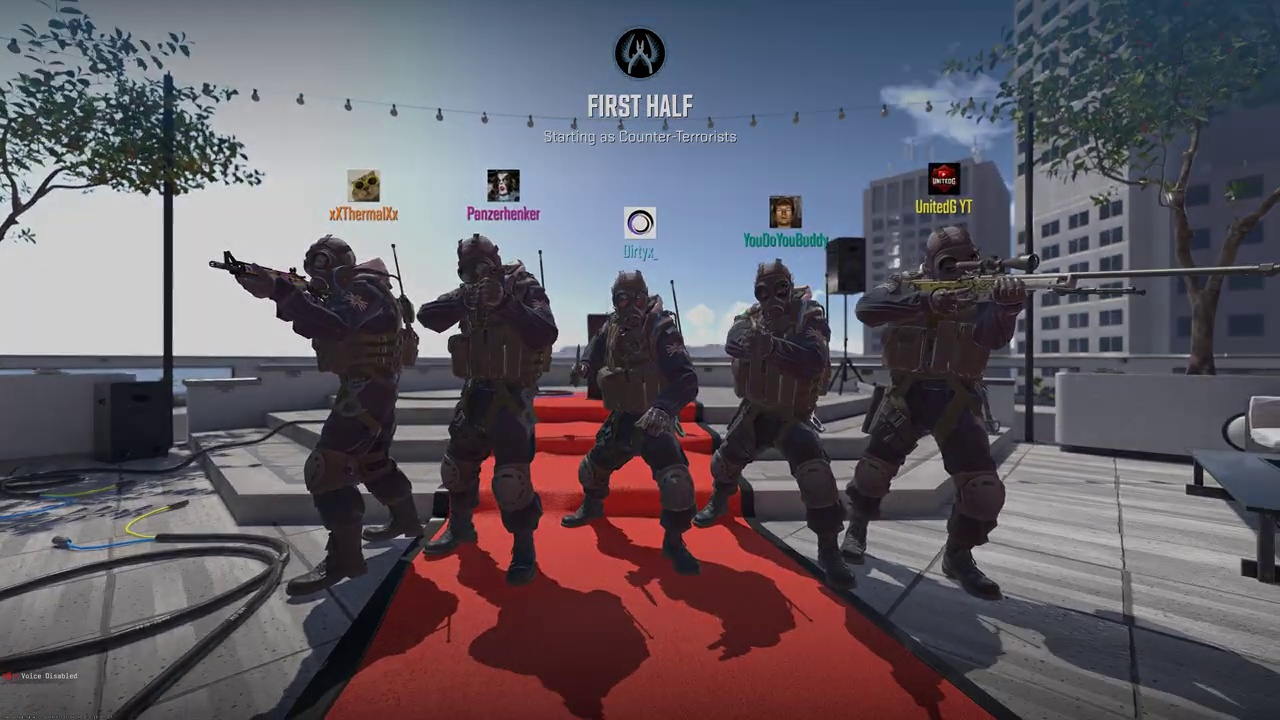CT: (855, 226, 1035, 594), (285, 236, 419, 598), (433, 234, 550, 577), (713, 262, 845, 564), (580, 270, 699, 564)
